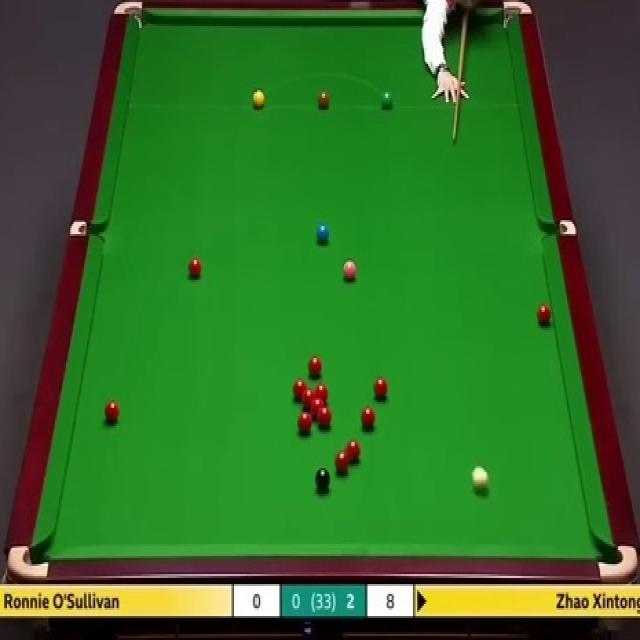black-ball: (314, 470, 332, 492)
blue-ball: (316, 222, 330, 247)
brown-ball: (317, 90, 330, 109)
green-ball: (381, 90, 394, 109)
pink-ball: (342, 262, 358, 284)
red-ball: (102, 398, 119, 423), (306, 356, 325, 378), (292, 376, 308, 402), (536, 304, 552, 329), (338, 449, 354, 474), (360, 406, 376, 431), (316, 408, 333, 431), (314, 384, 330, 408), (344, 439, 360, 463), (372, 378, 389, 400), (297, 410, 312, 434), (301, 390, 317, 410), (188, 260, 202, 278), (310, 399, 324, 416)
white-ball: (470, 464, 490, 496)
yellow-ball: (252, 90, 265, 109)
